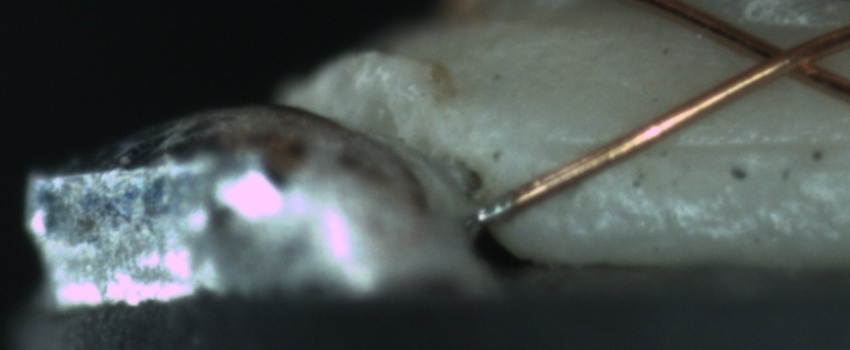CL: (733, 26, 841, 89)
DL: (549, 113, 847, 178)
TS: (470, 195, 513, 226)
